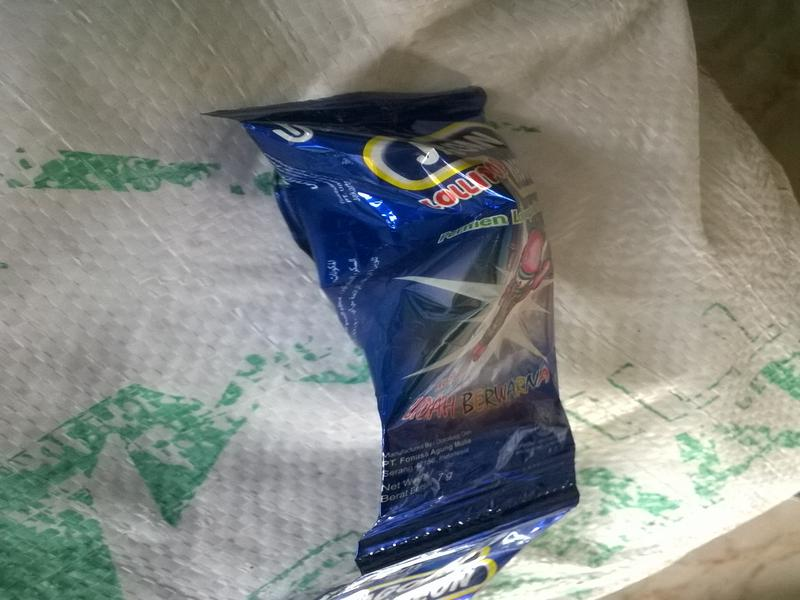jagoan neon: (201, 84, 578, 558)
